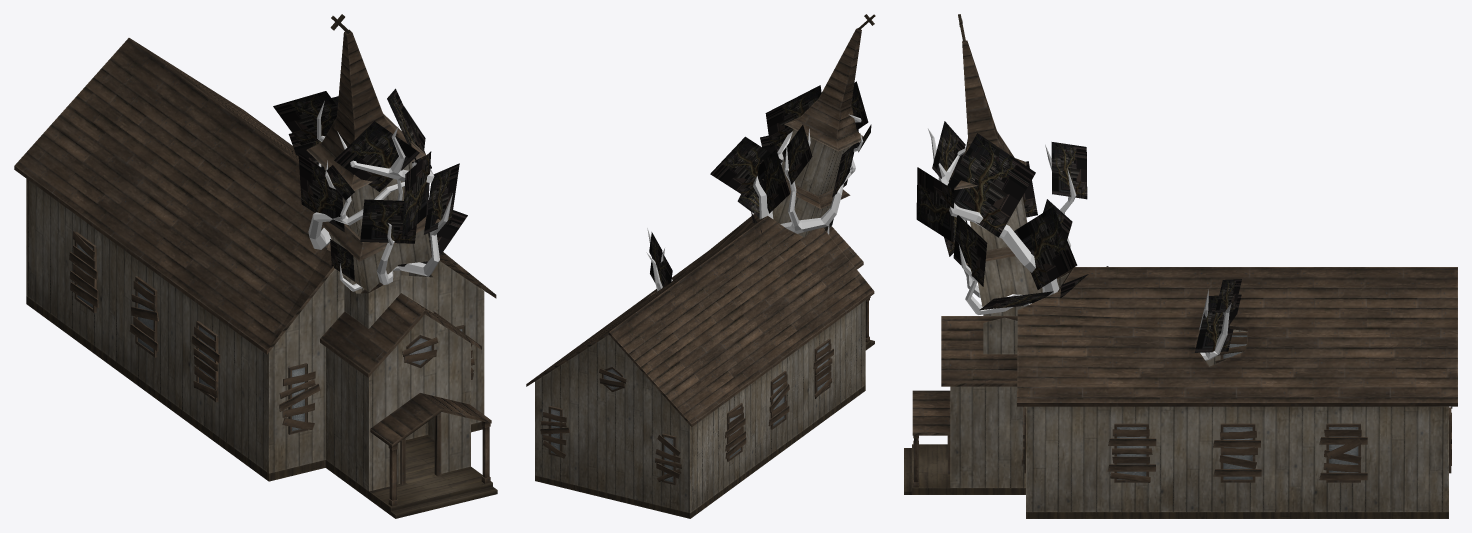
Rendered from Church.Fixed.fbx.
3 views of the same model, side by side, from view 1: azimuth 30°, elevation 25°; view 2: azimuth 150°, elevation 25°; view 3: azimuth 270°, elevation 25° (orthographic). The views are drawn at different scales.
Visible parts, largest first — view 1: Church_Broken; view 2: Church_Broken; view 3: Church_Broken.
Part boxes in pixels (x1=…): Church_Broken: x1=14, y1=14, x2=497, y2=518; Church_Broken: x1=526, y1=14, x2=875, y2=518; Church_Broken: x1=904, y1=14, x2=1457, y2=518.
Bounding box in the file's own units: 819 × 1662 × 1965.
